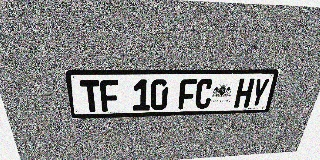0: (150, 79, 168, 110)
1: (133, 79, 150, 111)
C: (194, 79, 214, 109)
F: (99, 80, 119, 112), (178, 79, 197, 109)
H: (234, 78, 255, 108)
T: (80, 80, 102, 112)
Y: (249, 78, 270, 107)
